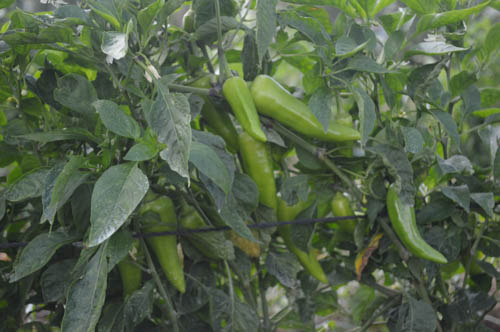ChiliPepper: (255, 75, 361, 143), (383, 188, 446, 265), (278, 193, 324, 281), (140, 199, 181, 287), (233, 135, 276, 207), (176, 211, 233, 261), (191, 80, 235, 143), (224, 80, 263, 137), (329, 193, 362, 233)
